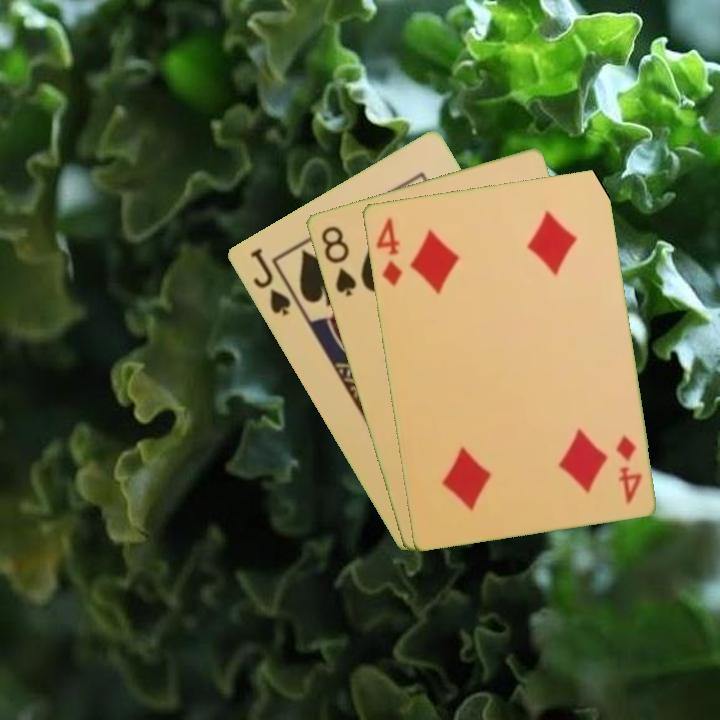4d: (372, 213, 405, 289), (612, 431, 644, 507)
8s: (317, 222, 359, 299)
Js: (246, 244, 294, 319)
